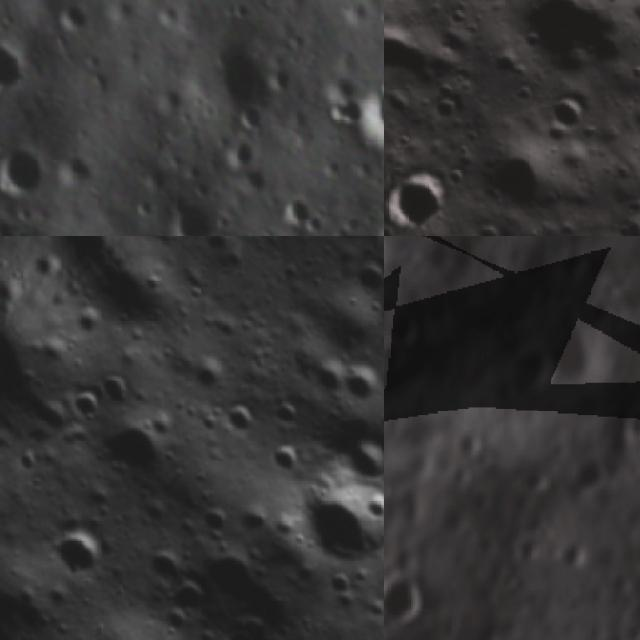crater: (499, 0, 640, 104), (286, 464, 384, 590), (85, 401, 181, 497), (396, 150, 470, 226), (45, 515, 117, 589), (206, 33, 272, 107), (550, 318, 610, 394), (0, 130, 55, 205), (334, 421, 384, 499), (166, 568, 226, 628), (92, 360, 150, 420), (346, 71, 384, 159), (384, 573, 439, 633), (58, 379, 113, 434), (336, 355, 384, 417), (256, 386, 310, 441), (512, 340, 560, 401), (0, 28, 31, 107), (165, 190, 216, 236), (219, 396, 266, 445), (570, 452, 616, 501), (142, 544, 188, 592), (264, 436, 310, 482), (346, 257, 384, 311), (384, 307, 424, 358), (218, 132, 269, 168), (79, 621, 170, 640), (274, 190, 321, 226), (452, 423, 490, 459), (455, 0, 523, 20), (562, 540, 598, 576), (512, 536, 546, 568), (518, 468, 553, 499), (613, 604, 640, 640), (384, 369, 401, 409), (629, 402, 640, 447), (0, 364, 5, 443)
